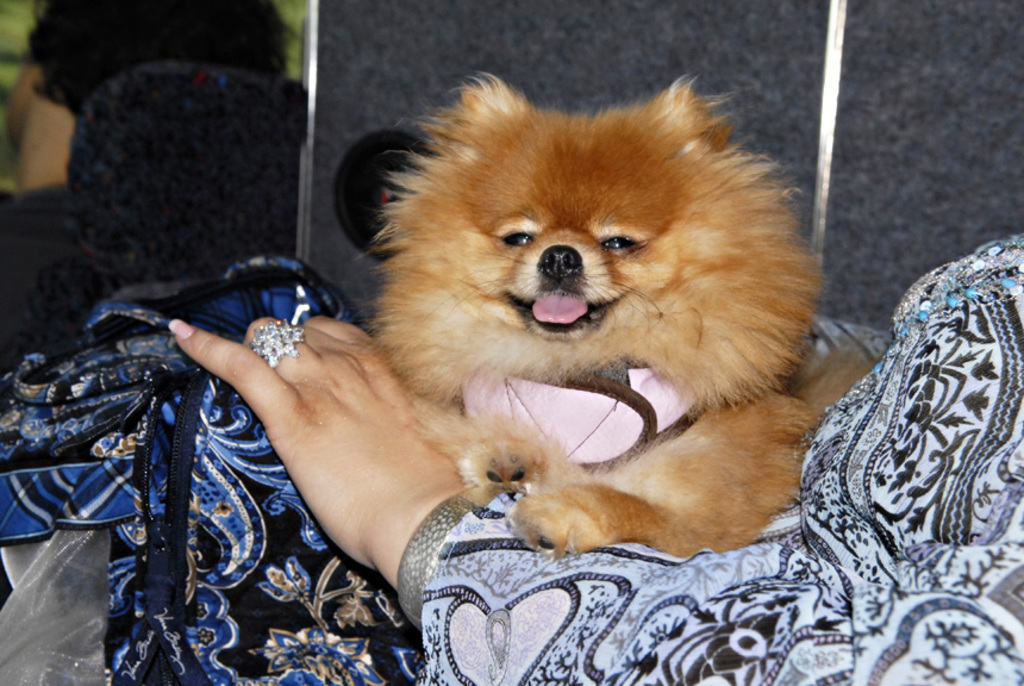Human_hand: (169, 317, 473, 569)
